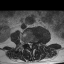CCS_normal: (29, 40, 31, 50)
LFS_severe_stenosis: (33, 39, 35, 45)
LLS_stenosis: (31, 40, 33, 47)
RFS_stenosis: (25, 40, 27, 46)
RLS_normal: (27, 40, 29, 47)
